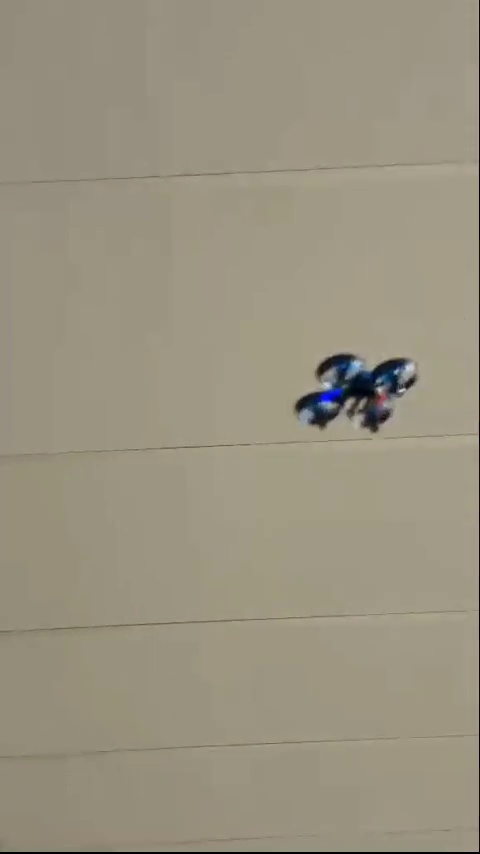drone: (295, 351, 420, 436)
